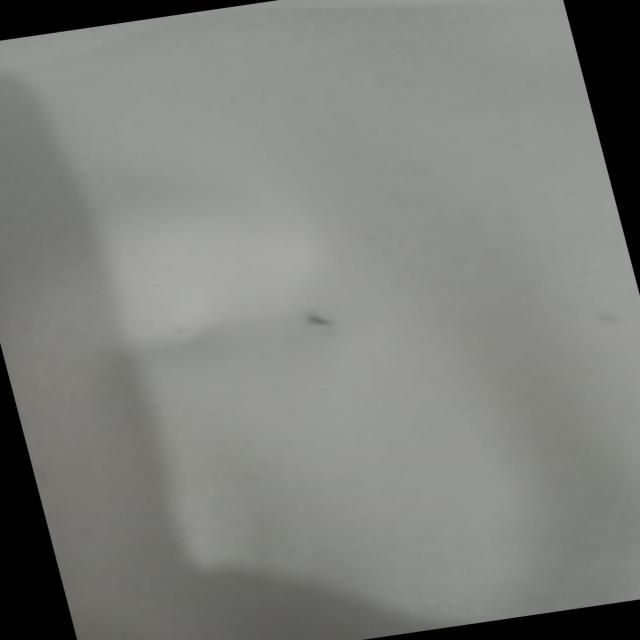stain: (284, 294, 356, 339)
